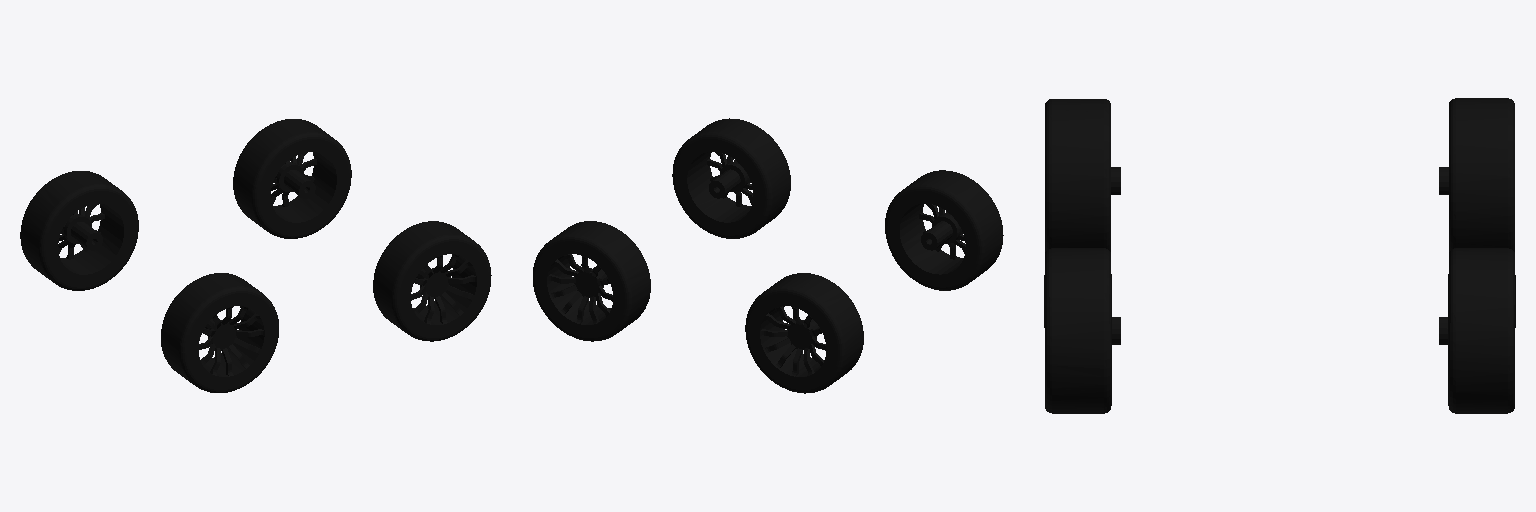
URDF robot description (NanoCarPro):
<?xml version="1.0" ?>
<!-- =================================================================================== -->
<!-- |    This document was autogenerated by xacro from nanocarpro_description.urdf.xacro | -->
<!-- |    EDITING THIS FILE BY HAND IS NOT RECOMMENDED                                 | -->
<!-- =================================================================================== -->
<robot name="NanoCarPro">
  <gazebo reference="base_link">
    <material>Gazebo/DarkGrey</material>
  </gazebo>
  <gazebo reference="/front_left_wheel_link">
    <mu1>0.5</mu1>
    <mu2>0.5</mu2>
    <kp>500000.0</kp>
    <kd>10.0</kd>
    <minDepth>0.001</minDepth>
    <maxVel>1.0</maxVel>
    <fdir1>1 0 0</fdir1>
    <material>Gazebo/FlatBlack</material>
  </gazebo>
  <gazebo reference="/front_right_wheel_link">
    <mu1>0.5</mu1>
    <mu2>0.5</mu2>
    <kp>500000.0</kp>
    <kd>10.0</kd>
    <minDepth>0.001</minDepth>
    <maxVel>1.0</maxVel>
    <fdir1>1 0 0</fdir1>
    <material>Gazebo/FlatBlack</material>
  </gazebo>
  <gazebo reference="/back_left_wheel_link">
    <mu1>0.5</mu1>
    <mu2>0.5</mu2>
    <kp>500000.0</kp>
    <kd>10.0</kd>
    <minDepth>0.001</minDepth>
    <maxVel>1.0</maxVel>
    <fdir1>1 0 0</fdir1>
    <material>Gazebo/FlatBlack</material>
  </gazebo>
  <gazebo reference="/back_right_wheel_link">
    <mu1>0.5</mu1>
    <mu2>0.5</mu2>
    <kp>500000.0</kp>
    <kd>10.0</kd>
    <minDepth>0.001</minDepth>
    <maxVel>1.0</maxVel>
    <fdir1>1 0 0</fdir1>
    <material>Gazebo/FlatBlack</material>
  </gazebo>
  <gazebo>
    <plugin filename="libgazebo_ros_skid_steer_drive.so" name="skid_steer_drive_controller">
      <updateRate>100.0</updateRate>
      <!-- <robotNamespace>/</robotNamespace> -->
      <leftFrontJoint>front_left_wheel_joint</leftFrontJoint>
      <rightFrontJoint>front_right_wheel_joint</rightFrontJoint>
      <leftRearJoint>back_left_wheel_joint</leftRearJoint>
      <rightRearJoint>back_right_wheel_joint</rightRearJoint>
      <wheelSeparation>0.1745</wheelSeparation>
      <wheelDiameter>0.067</wheelDiameter>
      <robotBaseFrame>base_footprint</robotBaseFrame>
      <torque>20</torque>
      <commandTopic>cmd_vel</commandTopic>
      <odometryTopic>odom</odometryTopic>
      <odometryFrame>odom</odometryFrame>
      <covariance_x>0.0001</covariance_x>
      <covariance_y>0.0001</covariance_y>
      <covariance_yaw>0.0001</covariance_yaw>
      <broadcastTF>true</broadcastTF>
    </plugin>
  </gazebo>
  <gazebo reference="/imu">
    <sensor name="imu" type="imu">
      <always_on>true</always_on>
      <visualize>false</visualize>
    </sensor>
    <material>Gazebo/FlatBlack</material>
  </gazebo>
  <gazebo>
    <plugin filename="libgazebo_ros_imu.so" name="imu_plugin">
      <alwaysOn>true</alwaysOn>
      <bodyName>/imu</bodyName>
      <frameName>imu</frameName>
      <topicName>imu</topicName>
      <serviceName>imu_service</serviceName>
      <gaussianNoise>0.0</gaussianNoise>
      <updateRate>0</updateRate>
      <imu>
        <noise>
          <type>gaussian</type>
          <rate>
            <mean>0.0</mean>
            <stddev>2e-4</stddev>
            <bias_mean>0.0000075</bias_mean>
            <bias_stddev>0.0000008</bias_stddev>
          </rate>
          <accel>
            <mean>0.0</mean>
            <stddev>1.7e-2</stddev>
            <bias_mean>0.1</bias_mean>
            <bias_stddev>0.001</bias_stddev>
          </accel>
        </noise>
      </imu>
    </plugin>
  </gazebo>
  <gazebo reference="/base_laser_link">
    <material>Gazebo/FlatBlack</material>
    <sensor name="rplidar_sensor" type="ray">
      <pose>0 0 0 0 0 0</pose>
      <visualize>false</visualize>
      <update_rate>7</update_rate>
      <ray>
        <scan>
          <horizontal>
            <samples>720</samples>
            <resolution>0.5</resolution>
            <min_angle>0.0</min_angle>
            <max_angle>6.28319</max_angle>
          </horizontal>
        </scan>
        <range>
          <min>0.120</min>
          <max>12.0</max>
          <resolution>0.015</resolution>
        </range>
        <noise>
          <type>gaussian</type>
          <mean>0.0</mean>
          <stddev>0.01</stddev>
        </noise>
      </ray>
      <plugin filename="libgazebo_ros_laser.so" name="gazebo_ros_rplidar_controller">
        <topicName>scan</topicName>
        <frameName>base_laser_link</frameName>
      </plugin>
    </sensor>
  </gazebo>
  <gazebo reference="/base_camera_link">
    <sensor name="csi Camera" type="camera">
      <always_on>true</always_on>
      <visualize>false</visualize>
      <camera>
        <horizontal_fov>1.085595</horizontal_fov>
        <image>
          <width>640</width>
          <height>480</height>
          <format>R8G8B8</format>
        </image>
        <clip>
          <near>0.03</near>
          <far>100</far>
        </clip>
      </camera>
      <plugin filename="libgazebo_ros_camera.so" name="camera_controller">
        <alwaysOn>true</alwaysOn>
        <updateRate>30.0</updateRate>
        <cameraName>/</cameraName>
        <frameName>base_camera_link</frameName>
        <imageTopicName>image_raw</imageTopicName>
        <cameraInfoTopicName>camera_info</cameraInfoTopicName>
        <hackBaseline>0.07</hackBaseline>
        <distortionK1>0.0</distortionK1>
        <distortionK2>0.0</distortionK2>
        <distortionK3>0.0</distortionK3>
        <distortionT1>0.0</distortionT1>
        <distortionT2>0.0</distortionT2>
      </plugin>
    </sensor>
  </gazebo>
  <gazebo reference="/camera_link">
    <sensor name="ir Camera" type="depth">
      <update_rate>20</update_rate>
      <camera>
        <horizontal_fov>1.047198</horizontal_fov>
        <image>
          <width>640</width>
          <height>480</height>
          <format>R8G8B8</format>
        </image>
        <clip>
          <near>0.05</near>
          <far>3</far>
        </clip>
      </camera>
      <plugin filename="libgazebo_ros_openni_kinect.so" name="ir_camera_controller">
        <baseline>0.2</baseline>
        <alwaysOn>true</alwaysOn>
        <updateRate>1.0</updateRate>
        <cameraName>camera_ir</cameraName>
        <imageTopicName>//camera/color/image_raw</imageTopicName>
        <cameraInfoTopicName>//camera/color/camera_info</cameraInfoTopicName>
        <depthImageTopicName>//camera/depth/image_raw</depthImageTopicName>
        <depthImageInfoTopicName>//camera/depth/camera_info</depthImageInfoTopicName>
        <pointCloudTopicName>//camera/depth/points</pointCloudTopicName>
        <frameName>camera_link</frameName>
        <pointCloudCutoff>0.5</pointCloudCutoff>
        <pointCloudCutoffMax>3.0</pointCloudCutoffMax>
        <distortionK1>0.00000001</distortionK1>
        <distortionK2>0.00000001</distortionK2>
        <distortionK3>0.00000001</distortionK3>
        <distortionT1>0.00000001</distortionT1>
        <distortionT2>0.00000001</distortionT2>
        <CxPrime>0</CxPrime>
        <Cx>0</Cx>
        <Cy>0</Cy>
        <focalLength>0</focalLength>
        <hackBaseline>0</hackBaseline>
      </plugin>
    </sensor>
  </gazebo>
  <link name="/base_footprint"/>
  <joint name="base_joint" type="fixed">
    <parent link="/base_footprint"/>
    <child link="base_link"/>
    <origin rpy="0 0 0" xyz="0.0 0.0 0.0157"/>
  </joint>
  <link name="base_link">
    <inertial>
      <origin rpy="0 0 0" xyz="0.072991 0.00046853 0.039966"/>
      <mass value="0.45437"/>
      <inertia ixx="0.00029844" ixy="-4.3951E-06" ixz="-2.191E-06" iyy="0.00043198" iyz="3.005E-07" izz="0.00068218"/>
    </inertial>
    <visual>
      <origin rpy="0 0 0" xyz="0 0 0"/>
      <geometry>
        <mesh filename="../meshes/base_link.obj"/>
      </geometry>
      <material name="">
        <color rgba="1 1 1 1"/>
      </material>
    </visual>
    <collision>
      <origin rpy="0 0 0" xyz="0.075 0 0.0475"/>
      <geometry>
        <box size="0.21 0.1 0.095"/>
      </geometry>
      <!-- <origin rpy="0 0 0" xyz="0 0 0"/>
      <geometry>
        <mesh filename="../meshes/base_link.obj"/>
      </geometry> -->
    </collision>
  </link>
  <link name="/front_left_wheel_link">
    <inertial>
      <origin rpy="0 0 0" xyz="-1.914E-05 -4.1633E-16 -0.0055056"/>
      <mass value="0.056134"/>
      <inertia ixx="2.4529E-05" ixy="1.012E-19" ixz="6.1905E-08" iyy="2.4528E-05" iyz="1.0409E-17" izz="4.2335E-05"/>
    </inertial>
    <visual>
      <origin rpy="0 0 0" xyz="0 0 0"/>
      <geometry>
        <mesh filename="../meshes/front_left_wheel_link.obj"/>
      </geometry>
      <material name="">
        <color rgba="0.1098 0.1098 0.1098 1"/>
      </material>
    </visual>
    <collision>
      <origin rpy="0 0 0" xyz="0 0 0"/>
      <geometry>
        <mesh filename="../meshes/front_left_wheel_link.obj"/>
      </geometry>
    </collision>
  </link>
  <joint name="front_left_wheel_joint" type="continuous">
    <!-- <origin rpy="-1.5708 0 0" xyz="0.14338 0.08725 0.0179"/> -->
    <origin rpy="0 0 0" xyz="0 0 0.03725"/>
    <parent link="/left_steering_link"/>
    <child link="/front_left_wheel_link"/>
    <axis xyz="0 0 1"/>
  </joint>
  <link name="/left_steering_link">
    <!-- <visual>
      <origin rpy="0 0 0" xyz="0 0 0"/>
      <geometry>
        <sphere radius="0.0001"/>
      </geometry>
      <material name="">
        <color rgba="0.1098 0.1098 0.1098 1"/>
      </material>
    </visual> -->
  </link>
  <joint name="left_steering_joint" type="continuous">
    <parent link="base_link"/>
    <child link="/left_steering_link"/>
    <origin rpy="-1.5708 0 0" xyz="0.14338 0.05 0.0179"/>
    <axis xyz="0 -1 0"/>
  </joint>
  
  <link name="/front_right_wheel_link">
    <inertial>
      <origin rpy="0 0 0" xyz="-1.914E-05 -4.1633E-16 -0.0055056"/>
      <mass value="0.056134"/>
      <inertia ixx="2.4529E-05" ixy="1.012E-19" ixz="6.1905E-08" iyy="2.4528E-05" iyz="1.0409E-17" izz="4.2335E-05"/>
    </inertial>
    <visual>
      <origin rpy="0 0 0" xyz="0 0 0"/>
      <geometry>
        <mesh filename="../meshes/front_right_wheel_link.obj"/>
      </geometry>
      <material name="">
        <color rgba="0.1098 0.1098 0.1098 1"/>
      </material>
    </visual>
    <collision>
      <origin rpy="0 0 0" xyz="0 0 0"/>
      <geometry>
        <mesh filename="../meshes/front_right_wheel_link.obj"/>
      </geometry>
    </collision>
  </link>
  <joint name="front_right_wheel_joint" type="continuous">
    <!-- <origin rpy="-1.5708 0 -3.1416" xyz="0.14338 -0.08725 0.0179"/> -->
    <origin rpy="0 0 0" xyz="0 0 0.03725"/>
    <parent link="/right_steering_link"/>
    <child link="/front_right_wheel_link"/>
    <axis xyz="0 0 -1"/>
  </joint>
  <link name="/right_steering_link">
    <!-- <visual>
      <origin rpy="0 0 0" xyz="0 0 0"/>
      <geometry>
        <sphere radius="0.0001"/>
      </geometry>
      <material name="">
        <color rgba="0.1098 0.1098 0.1098 1"/>
      </material>
    </visual> -->
  </link>
  <joint name="right_steering_joint" type="continuous">
    <parent link="base_link"/>
    <child link="/right_steering_link"/>
    <origin rpy="-1.5708 0 -3.1416" xyz="0.14338 -0.05 0.0179"/>
    <axis xyz="0 -1 0"/>
  </joint>
  <link name="/back_left_wheel_link">
    <inertial>
      <origin rpy="0 0 0" xyz="-1.914E-05 -4.1633E-16 -0.0055056"/>
      <mass value="0.056134"/>
      <inertia ixx="2.4529E-05" ixy="1.012E-19" ixz="6.1905E-08" iyy="2.4528E-05" iyz="1.0409E-17" izz="4.2335E-05"/>
    </inertial>
    <visual>
      <origin rpy="0 0 0" xyz="0 0 0"/>
      <geometry>
        <mesh filename="../meshes/back_left_wheel_link.obj"/>
      </geometry>
      <material name="">
        <color rgba="0.1098 0.1098 0.1098 1"/>
      </material>
    </visual>
    <collision>
      <origin rpy="0 0 0" xyz="0 0 0"/>
      <geometry>
        <mesh filename="../meshes/back_left_wheel_link.obj"/>
      </geometry>
    </collision>
  </link>
  <joint name="back_left_wheel_joint" type="continuous">
    <origin rpy="-1.5708 0 0" xyz="-0.00015 0.08725 0.0179"/>
    <parent link="base_link"/>
    <child link="/back_left_wheel_link"/>
    <axis xyz="0 0 1"/>
  </joint>
  <link name="/back_right_wheel_link">
    <inertial>
      <origin rpy="0 0 0" xyz="-1.914E-05 -4.1633E-16 -0.0055056"/>
      <mass value="0.056134"/>
      <inertia ixx="2.4529E-05" ixy="1.012E-19" ixz="6.1905E-08" iyy="2.4528E-05" iyz="1.0409E-17" izz="4.2335E-05"/>
    </inertial>
    <visual>
      <origin rpy="0 0 0" xyz="0 0 0"/>
      <geometry>
        <mesh filename="../meshes/back_right_wheel_link.obj"/>
      </geometry>
      <material name="">
        <color rgba="0.1098 0.1098 0.1098 1"/>
      </material>
    </visual>
    <collision>
      <origin rpy="0 0 0" xyz="0 0 0"/>
      <geometry>
        <mesh filename="../meshes/back_right_wheel_link.obj"/>
      </geometry>
    </collision>
  </link>
  <joint name="back_right_wheel_joint" type="continuous">
    <origin rpy="-1.5708 0 3.1416" xyz="0.00015 -0.08725 0.0179"/>
    <parent link="base_link"/>
    <child link="/back_right_wheel_link"/>
    <axis xyz="0 0 -1"/>
  </joint>
  <!-- laser -->
  <link name="/base_laser_link"/>
  <joint name="laser_joint" type="fixed">
    <origin rpy="0 0 3.1416" xyz="0.11449 0 0.141"/>
    <parent link="base_link"/>
    <child link="/base_laser_link"/>
    <axis xyz="0 0 0"/>
  </joint>
  <!-- rgb camera -->
  <link name="/base_camera_link"/>
  <joint name="camera_joint" type="fixed">
    <origin rpy="0 0 0" xyz="0.15917 0.019164 0.073"/>
    <parent link="base_link"/>
    <child link="/base_camera_link"/>
    <axis xyz="0 0 0"/>
  </joint>
  <!-- imu -->
  <link name="/imu"/>
  <joint name="imu_joint" type="fixed">
    <origin rpy="0 0 0" xyz="0.0653 -0.0275 0.07671"/>
    <parent link="base_link"/>
    <child link="/imu"/>
    <axis xyz="0 0 0"/>
  </joint>
  <!-- ir camera -->
  <link name="/camera_link"/>
  <joint name="ir_camera_joint" type="fixed">
    <origin rpy="0 0 0" xyz="0.15917 0.039164 0.073"/>
    <parent link="base_link"/>
    <child link="/camera_link"/>
    <axis xyz="0 0 0"/>
  </joint>
</robot>

--- What the picture shows (computed from the rendered views, not written in the file) ---
Views: 3 orthographic renders of the robot side by side, from view 1: azimuth 30°, elevation 25°; view 2: azimuth 150°, elevation 25°; view 3: azimuth 270°, elevation 25°.
Robot: NanoCarPro — 12 links, 11 joints (6 continuous, 5 fixed); root link /base_footprint; default pose: all joints at 0.
Links seen in each view (by area): view 1: /front_left_wheel_link, /front_right_wheel_link, /back_right_wheel_link, /back_left_wheel_link; view 2: /front_right_wheel_link, /back_right_wheel_link, /back_left_wheel_link, /front_left_wheel_link; view 3: /front_left_wheel_link, /front_right_wheel_link, /back_left_wheel_link, /back_right_wheel_link.
Link boxes in pixels (x1,y1,x2,y2): /front_left_wheel_link: [233, 119, 351, 238]; /front_right_wheel_link: [373, 221, 491, 341]; /back_right_wheel_link: [161, 273, 278, 392]; /back_left_wheel_link: [20, 171, 138, 290]; /front_right_wheel_link: [672, 118, 790, 238]; /back_right_wheel_link: [885, 170, 1003, 290]; /back_left_wheel_link: [745, 273, 863, 393]; /front_left_wheel_link: [533, 221, 650, 341]; /front_left_wheel_link: [1439, 248, 1515, 413]; /front_right_wheel_link: [1044, 248, 1120, 413]; /back_left_wheel_link: [1439, 98, 1514, 251]; /back_right_wheel_link: [1045, 99, 1120, 251].
Bounding box of the posed robot: 0.2105 × 0.1907 × 0.067 m (x, y, z).
Meshes: 5 distinct files referenced, 4 mesh visuals loaded (4 OBJ); not drawn: 1 (reference not matched to a file when rendering).
